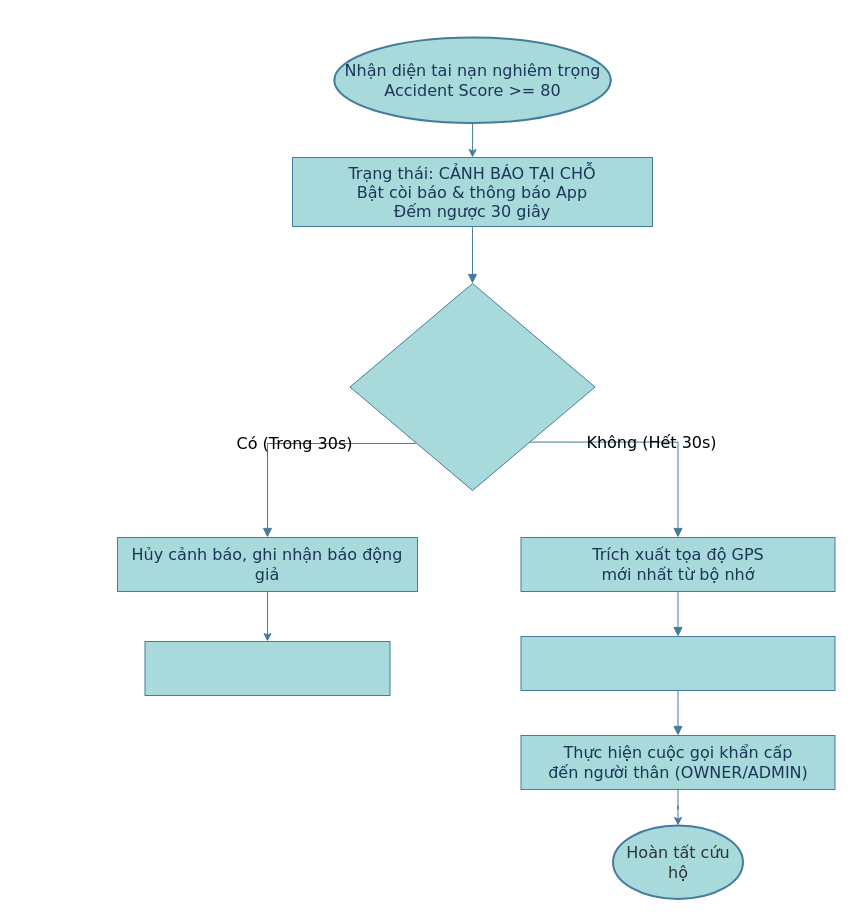
Image size: 852x917. Some labels were removed from this diagram. The box of each missing label's shape, as (x1, y1, x2, y2) in pixels:
Kích hoạt SIM 4G A7680C Gửi SMS chứa link Google Maps: (520, 636, 835, 690)
Người dùng nhấn 'TÔI AN TOÀN'?: (349, 282, 595, 490)
Quay lại giám sát chuyển động: (144, 640, 390, 696)
